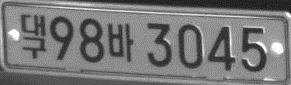0: (177, 23, 203, 69)
3: (146, 22, 172, 67)
4: (207, 26, 236, 71)
5: (241, 27, 267, 72)
8: (78, 17, 104, 63)
9: (49, 15, 74, 61)
대구_V: (20, 13, 47, 59)
바: (107, 22, 133, 62)
